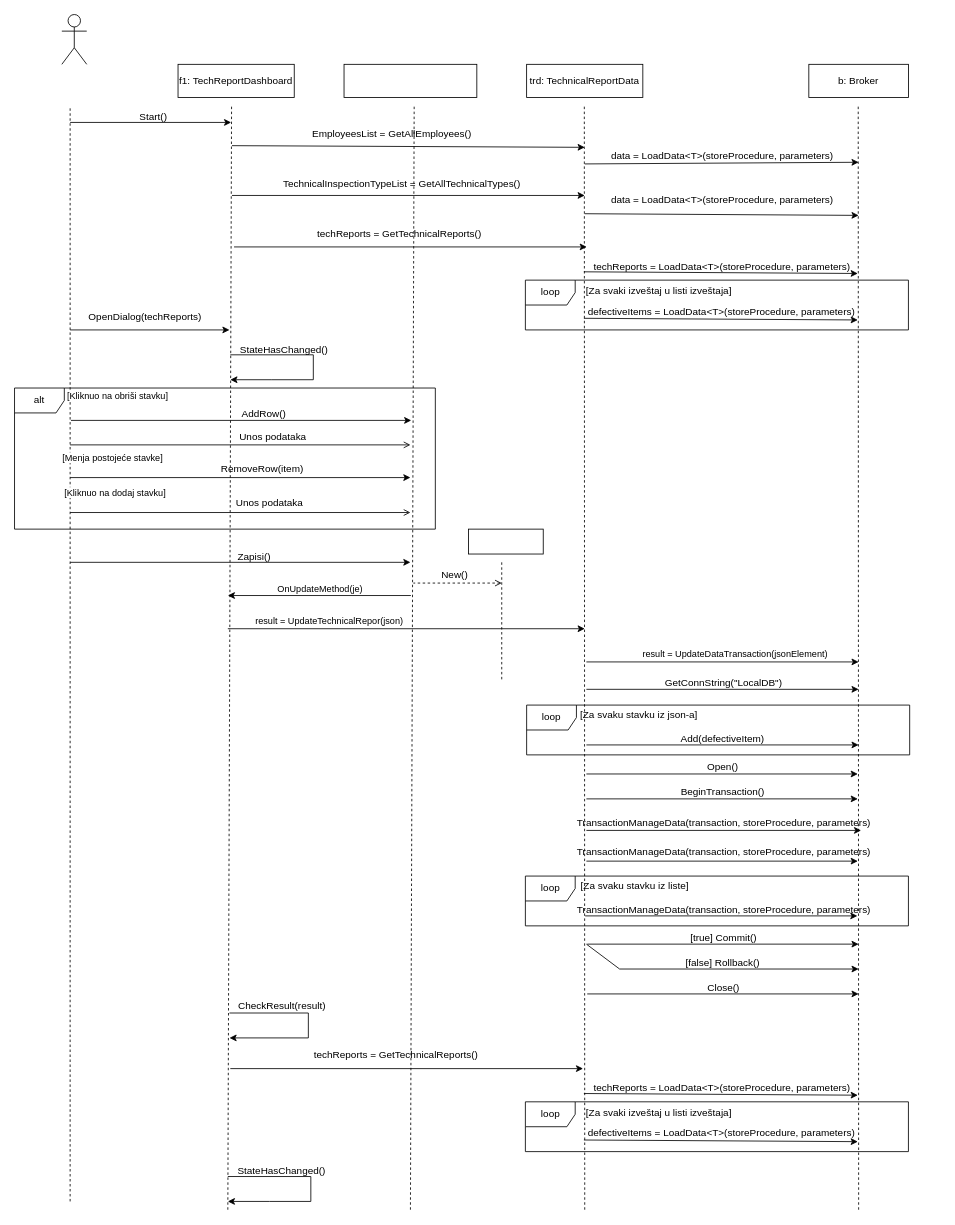
Image size: 955x1225. Some labels were removed from this diagram. The centre of each missing label's shape, as x and y in pixels:
Actor: Zaposleni: [74,39]
f2: TechReportUpdateModal: [410,80]
je: JsonElement: [505,541]
